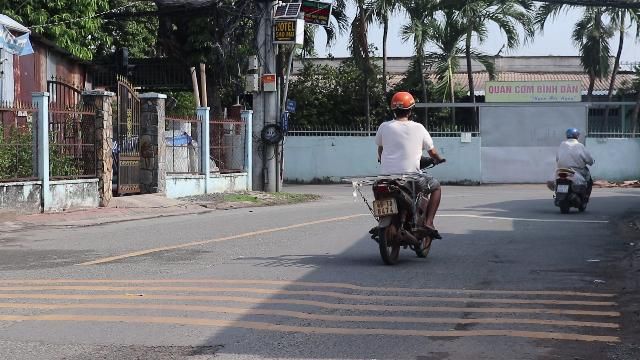helmet: (388, 90, 414, 120)
licenseplate: (372, 198, 396, 216)
motorcyclist: (354, 89, 444, 262)
